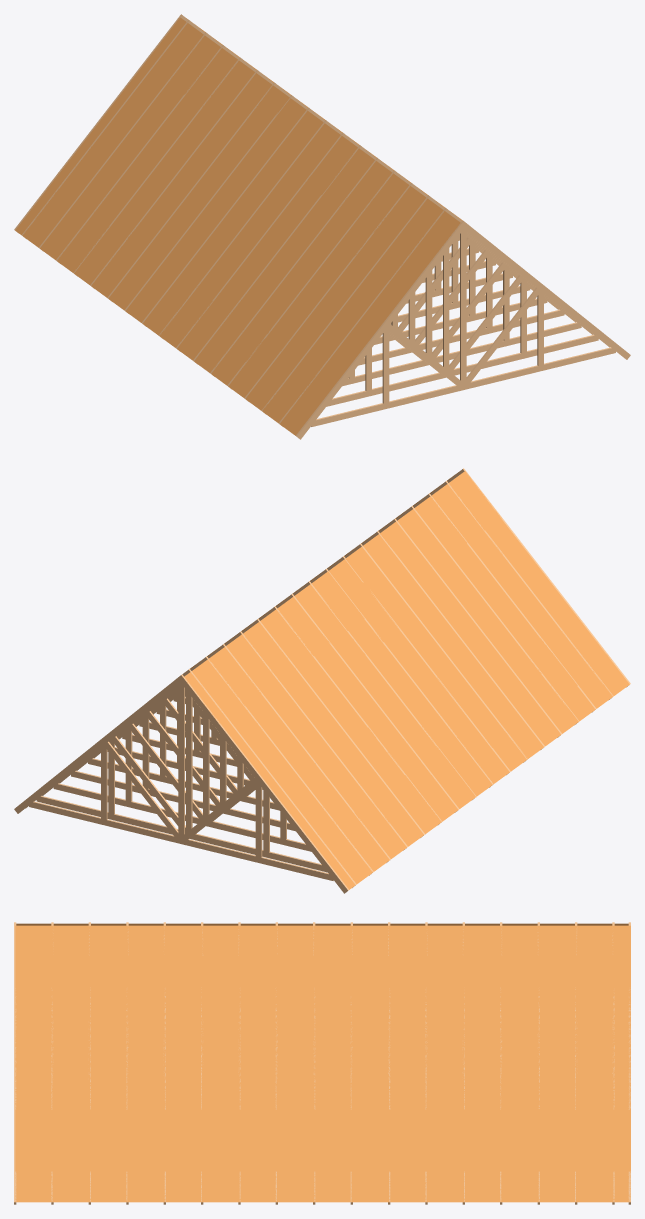
File: Structural Wood TrussesDone.dae
3 renders of one model, top to bottom at view 1: azimuth 30°, elevation 25°; view 2: azimuth 150°, elevation 25°; view 3: azimuth 270°, elevation 25°, orthographic. The views are drawn at different scales.
Parts seen in each view (by area): view 1: group_3 (×5), group_6 (×4), group_5 (×3), group_2, group_4, group_43, group_63, group_42, group_83, group_62, group_104, group_44 (+74 smaller); view 2: group_3 (×5), group_6 (×4), group_5 (×3), group_2, group_4, group_70, group_109, group_78, group_42, group_69, group_61, group_62 (+74 smaller); view 3: group_43, group_89, group_92, group_93, group_102, group_47, group_32, group_55, group_61, group_63, group_69, group_88 (+74 smaller).
Boxes of the visible parts, <box> form: group_3 (×5): <box>311,297,615,426</box>; group_6 (×4): <box>415,250,540,383</box>; group_5 (×3): <box>425,229,466,384</box>; group_2: <box>296,220,463,439</box>; group_4: <box>464,221,630,359</box>; group_43: <box>57,214,109,272</box>; group_63: <box>159,289,212,347</box>; group_42: <box>168,35,220,94</box>; group_83: <box>305,136,357,194</box>; group_62: <box>237,85,289,144</box>; group_104: <box>262,364,315,423</box>; group_44: <box>202,60,254,119</box>; group_3 (×5): <box>29,758,333,880</box>; group_6 (×4): <box>104,711,219,837</box>; group_5 (×3): <box>178,683,209,838</box>; group_2: <box>181,674,348,893</box>; group_4: <box>14,675,180,813</box>; group_70: <box>312,571,364,630</box>; group_109: <box>448,471,501,530</box>; group_78: <box>347,582,399,642</box>; group_42: <box>208,647,261,705</box>; group_69: <box>423,750,475,808</box>; group_61: <box>389,775,441,833</box>; group_62: <box>277,597,330,655</box>; group_43: <box>501,1140,538,1202</box>; group_89: <box>202,1140,239,1202</box>; group_92: <box>202,1017,239,1079</box>; group_93: <box>127,1140,164,1202</box>; group_102: <box>127,1017,164,1079</box>; group_47: <box>501,1017,538,1079</box>; group_32: <box>576,1140,613,1202</box>; group_55: <box>426,1017,463,1079</box>; group_61: <box>426,1140,463,1202</box>; group_63: <box>277,1140,314,1202</box>; group_69: <box>351,1140,388,1202</box>; group_88: <box>277,1017,314,1079</box>.
Bounding box in the file's own units: 355 × 520 × 182.
